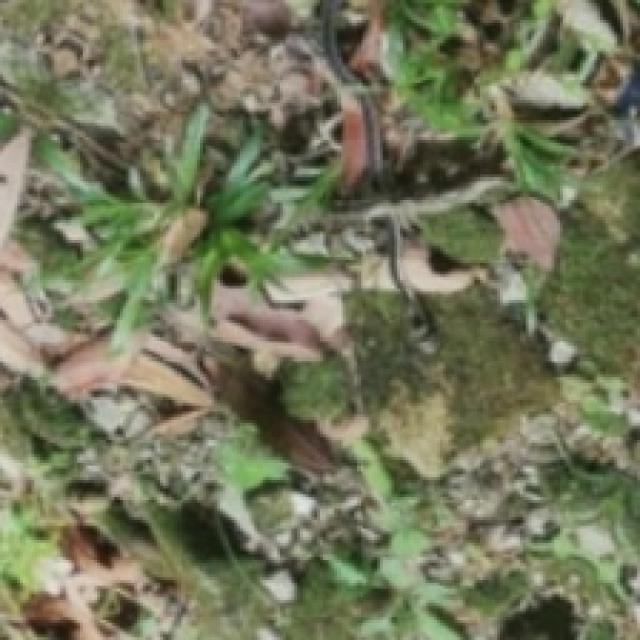king cobra: (314, 0, 386, 194)
